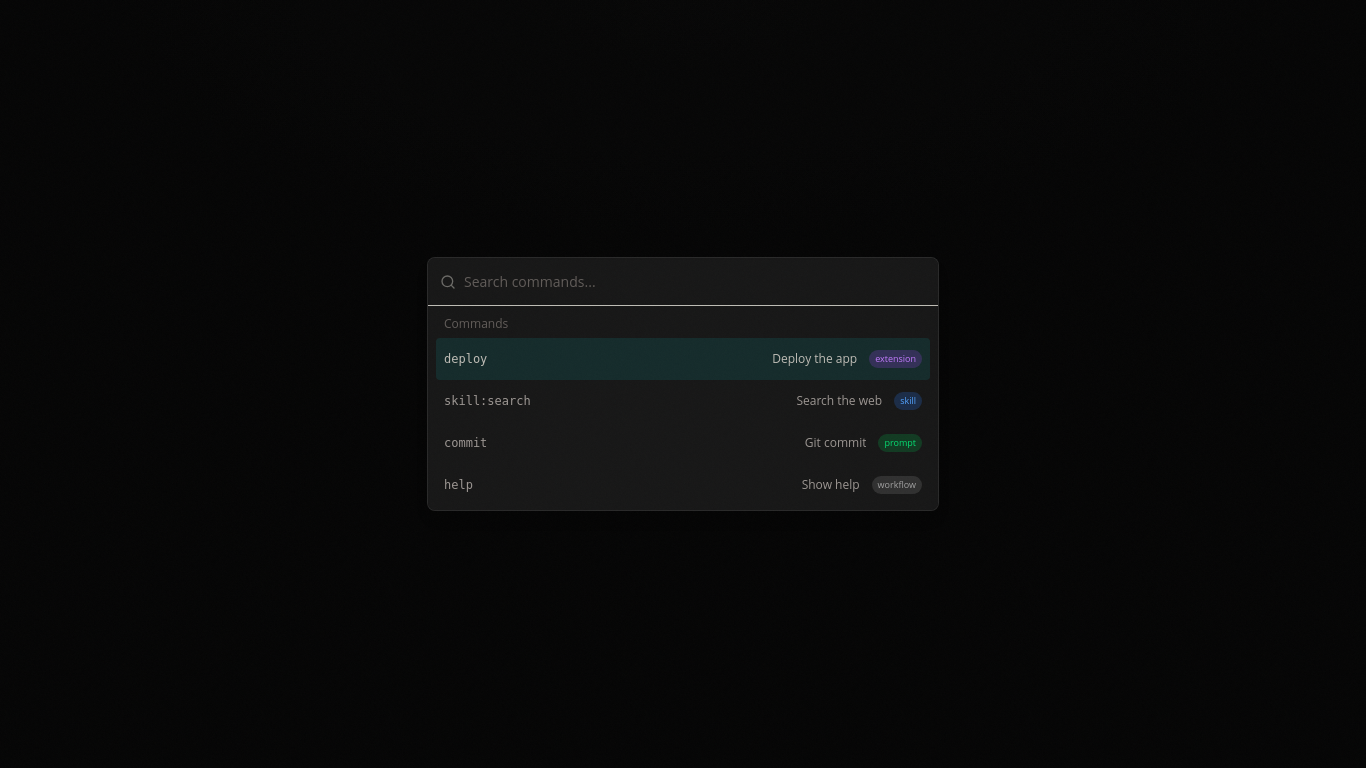
Test: GlobalCommandPalette › shows no commands found when search has no matches
The width and height of the screenshot is (1366, 768).
Type "xyz" into the dropdown with placeholder "Search commands..." at (695, 282), box [464,258,926,306]
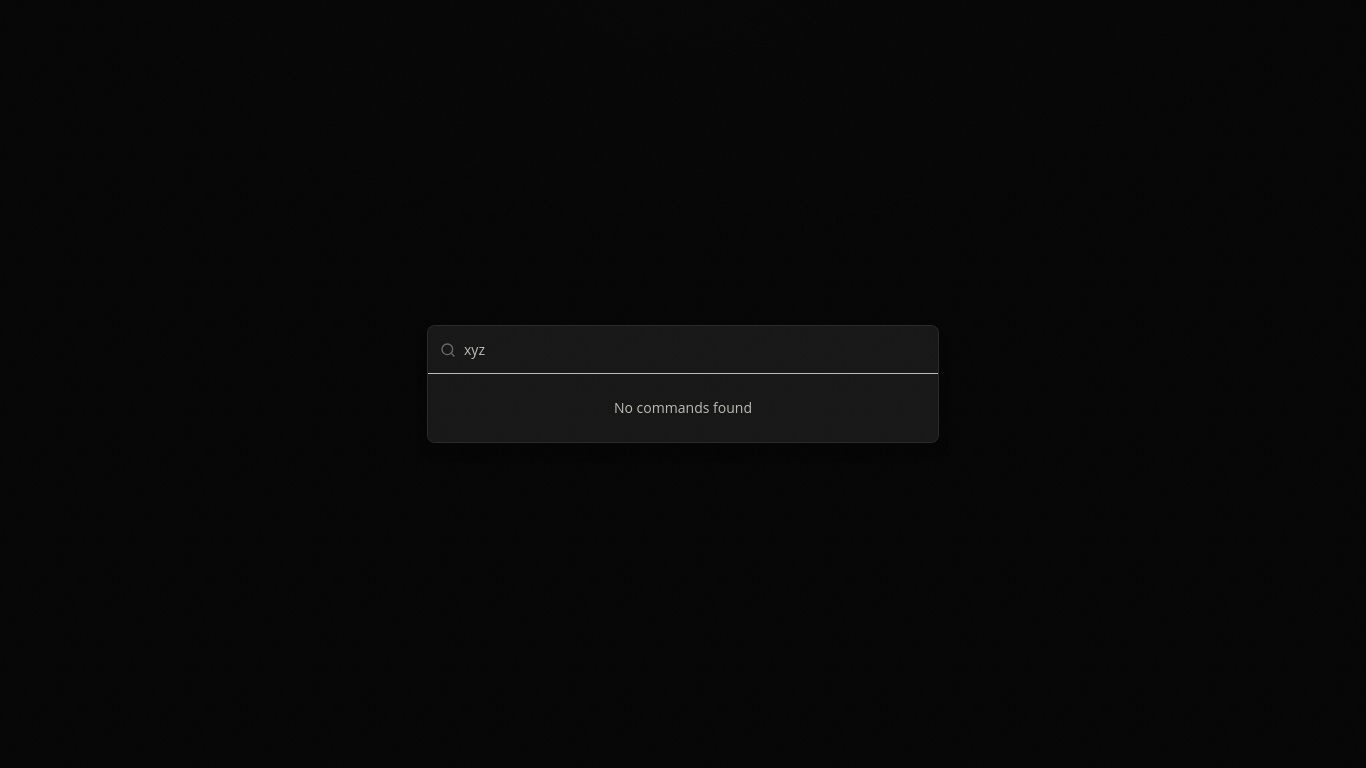
Expected: the text "No commands found" is shown, [614,398,752,417]
